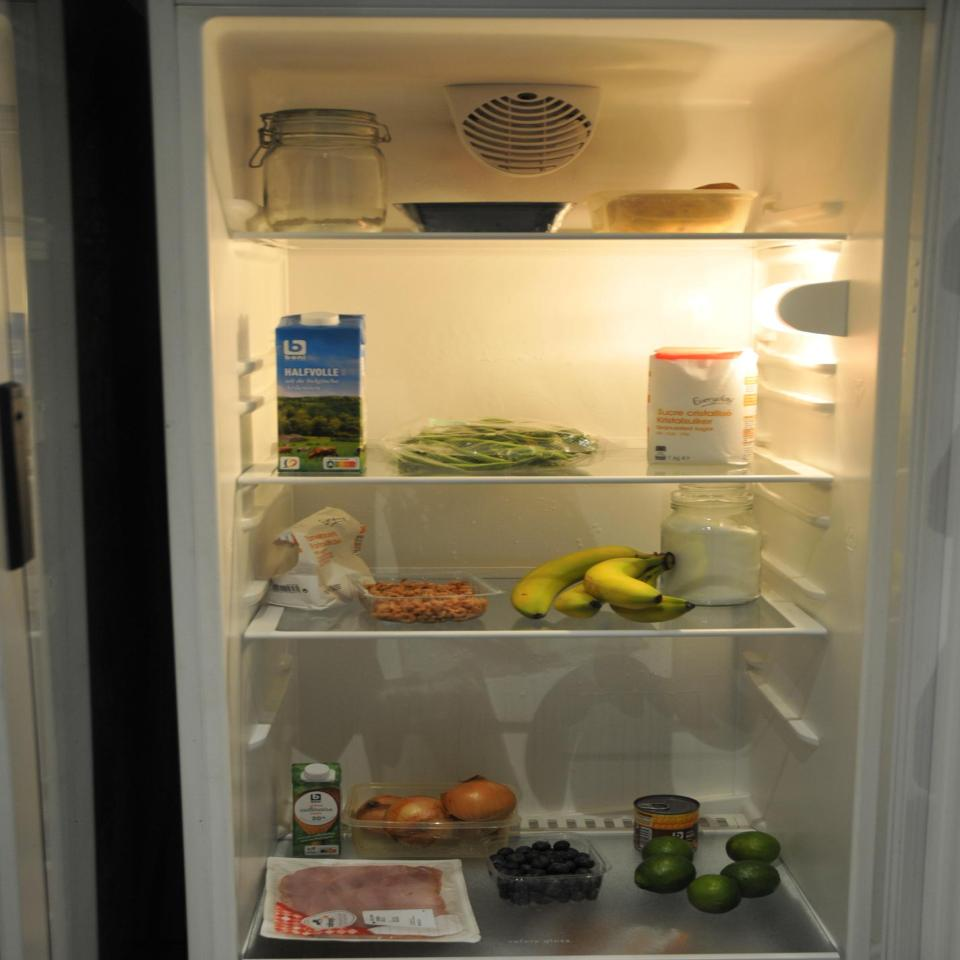Leche: (273, 310, 370, 476)
Plátano: (508, 544, 701, 623)
